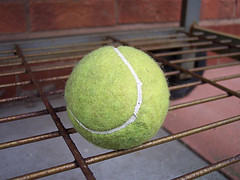tennis ball: (63, 44, 171, 152)
